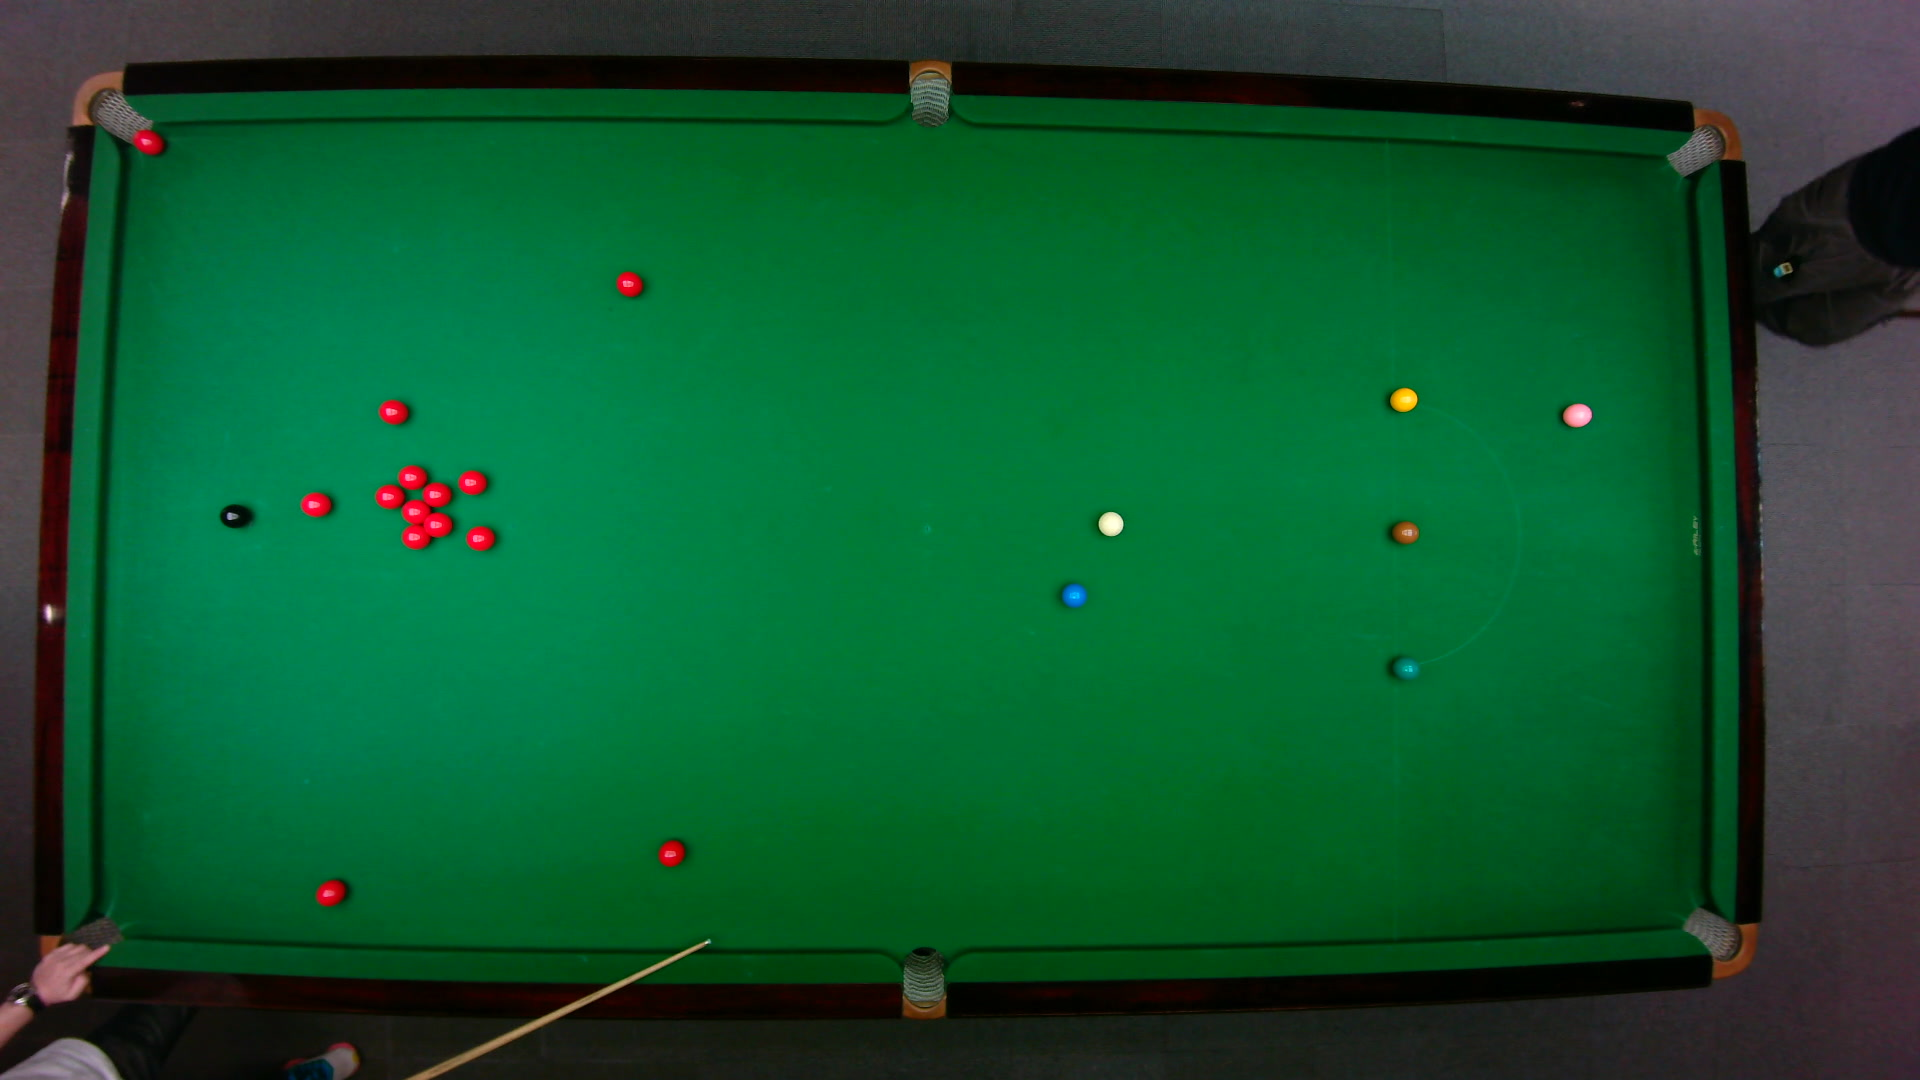bag: (26, 913, 123, 1004), (69, 69, 154, 146), (1677, 905, 1756, 978), (1663, 107, 1742, 177), (901, 944, 944, 1021), (909, 57, 949, 128)
black: (218, 502, 251, 529)
blue: (1059, 580, 1087, 608)
brown: (1390, 520, 1419, 545)
cue: (417, 936, 712, 1079)
green: (1390, 654, 1419, 680)
pink: (1560, 401, 1593, 427)
red: (314, 877, 347, 907), (131, 127, 165, 156), (396, 463, 429, 491), (298, 491, 332, 517), (655, 837, 686, 866), (464, 524, 496, 551), (421, 510, 452, 538), (419, 480, 452, 506), (377, 398, 409, 425), (456, 468, 488, 495), (373, 483, 406, 508), (615, 269, 644, 297), (400, 524, 430, 550), (400, 497, 429, 524)
white: (1096, 509, 1124, 535)
yellow: (1387, 385, 1419, 411)
zone: (1390, 401, 1520, 666)
